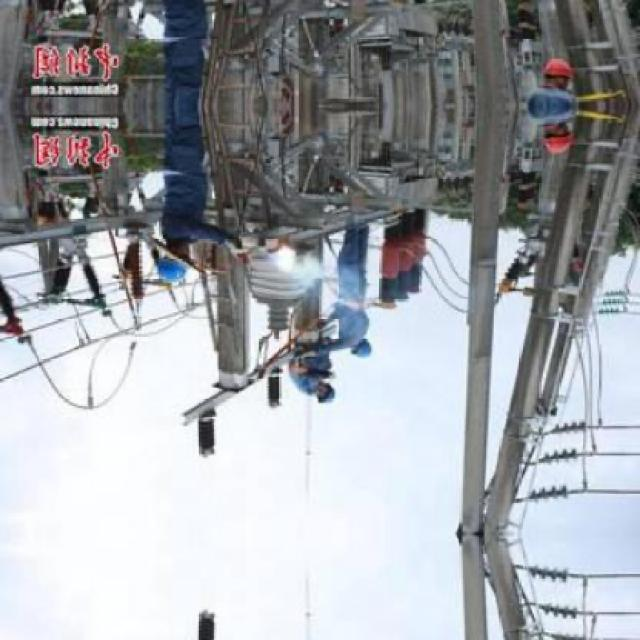con casco: (285, 335, 405, 430)
